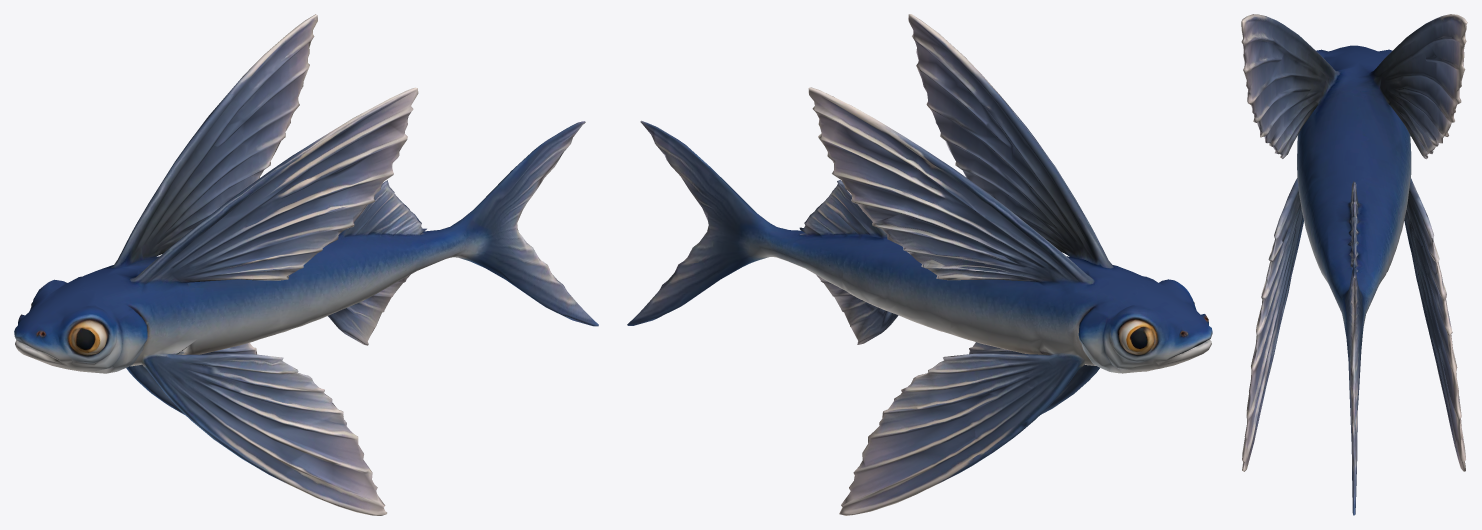
Rendered from fish-letuchaya.glb.
The picture shows the model from 3 angles, left to right: view 1: azimuth 30°, elevation 25°; view 2: azimuth 150°, elevation 25°; view 3: azimuth 270°, elevation 25°; orthographic projection. The views are drawn at different scales.
Parts seen in each view (by area): view 1: tripo_node_c3f39f99-a903-4f3c-b8b8-a8ab885fe0ac; view 2: tripo_node_c3f39f99-a903-4f3c-b8b8-a8ab885fe0ac; view 3: tripo_node_c3f39f99-a903-4f3c-b8b8-a8ab885fe0ac.
Part boxes in pixels (box(x1,y1,x2,y2)): tripo_node_c3f39f99-a903-4f3c-b8b8-a8ab885fe0ac: box(14, 14, 598, 515); tripo_node_c3f39f99-a903-4f3c-b8b8-a8ab885fe0ac: box(627, 14, 1212, 515); tripo_node_c3f39f99-a903-4f3c-b8b8-a8ab885fe0ac: box(1241, 14, 1467, 515).
Bounding box in the file's own units: 1 × 0.69 × 0.3027.
Materials: 1 (1 with a texture image).
